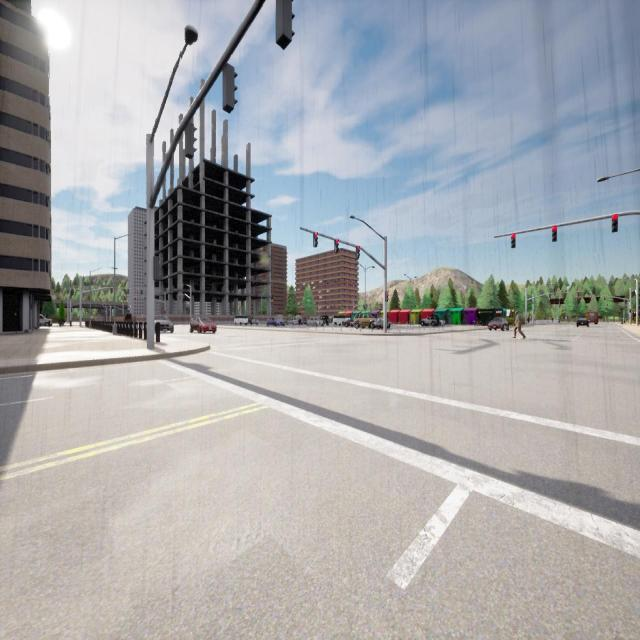Pedestrian: (513, 310, 525, 338), (125, 310, 132, 330), (527, 317, 530, 324)
Traffic_Signs: (565, 317, 567, 319)
Vehicle: (190, 315, 216, 333), (154, 314, 173, 332), (354, 314, 374, 328), (488, 318, 508, 330), (370, 317, 390, 328), (332, 316, 350, 326), (421, 316, 439, 326), (40, 314, 51, 327), (587, 311, 598, 324), (234, 316, 248, 326), (307, 318, 323, 326), (267, 319, 284, 326), (576, 318, 588, 327), (320, 315, 329, 326), (250, 317, 258, 325), (346, 320, 354, 327), (288, 319, 297, 325)
traffic_light: (276, 0, 296, 50), (224, 65, 238, 114), (185, 124, 197, 158), (154, 256, 160, 280), (612, 215, 618, 231), (552, 226, 557, 242), (313, 232, 318, 247), (511, 233, 515, 248), (356, 246, 360, 259), (334, 240, 338, 252), (385, 290, 389, 302), (133, 295, 136, 298), (629, 309, 631, 313), (578, 296, 580, 299), (589, 296, 592, 298), (604, 297, 606, 300), (124, 296, 126, 298), (164, 310, 166, 312)
